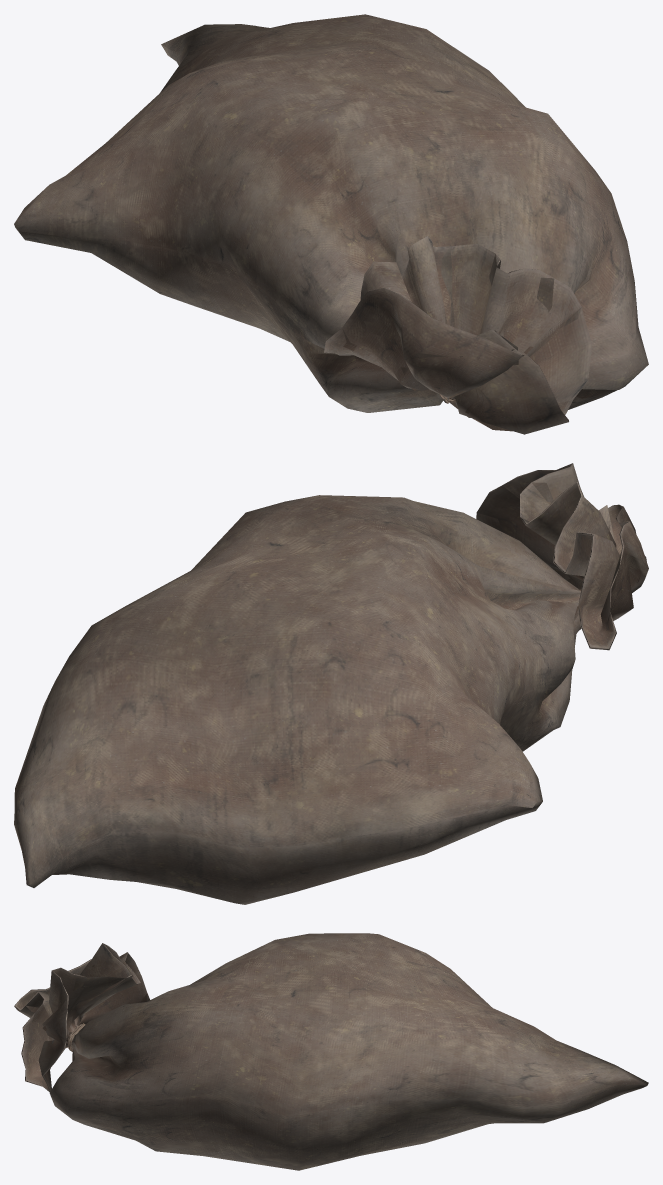
File: SM_Sandbag_02.fbx
The picture shows the model from 3 angles, top to bottom: view 1: azimuth 30°, elevation 25°; view 2: azimuth 150°, elevation 25°; view 3: azimuth 270°, elevation 25°; orthographic projection. The views are drawn at different scales.
Visible parts, largest first — view 1: SM_Sandbag_02_LOD0; view 2: SM_Sandbag_02_LOD0; view 3: SM_Sandbag_02_LOD0.
Part boxes in pixels (left/top/right/bottom): SM_Sandbag_02_LOD0: left=14, top=14, right=648, bottom=434; SM_Sandbag_02_LOD0: left=14, top=463, right=648, bottom=904; SM_Sandbag_02_LOD0: left=14, top=933, right=648, bottom=1170.
Bounding box in the file's own units: 81.13 × 139 × 45.04.
Materials: 1 (1 with a texture image).
